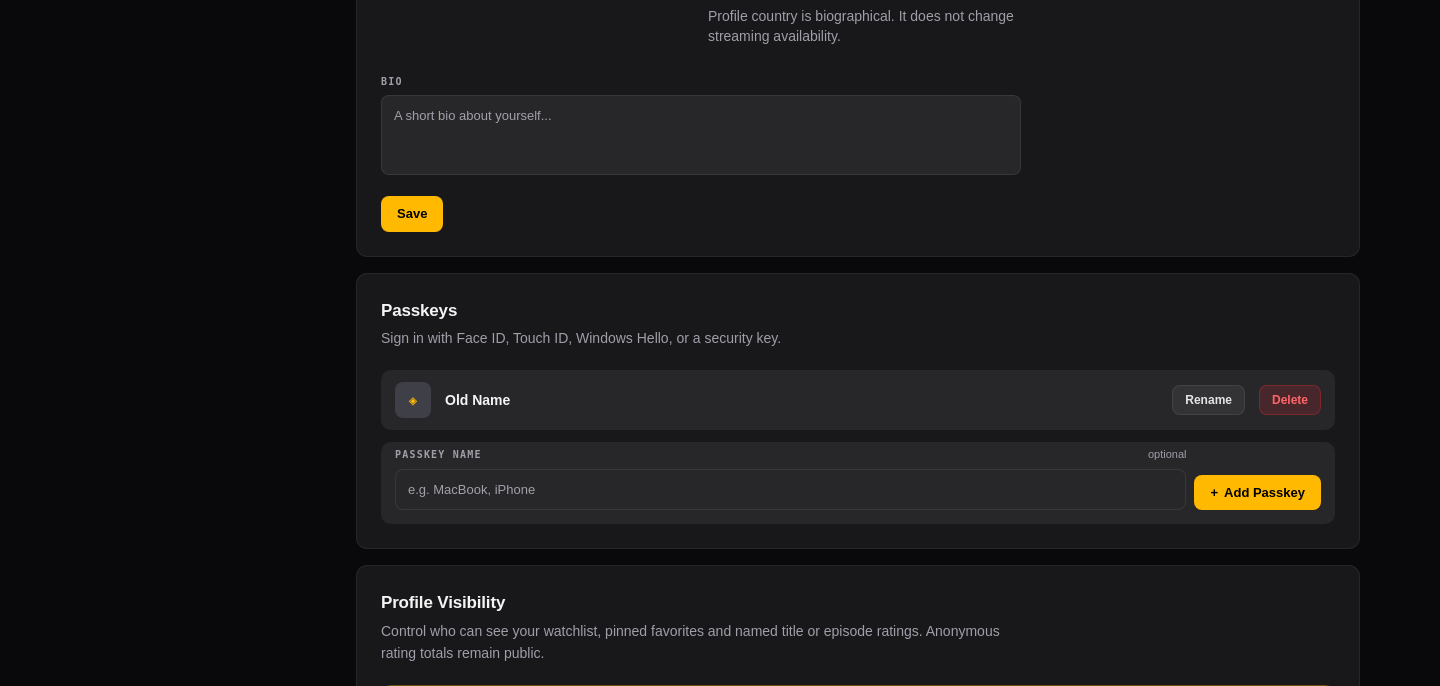
PasskeySection › rename error: shows error and keeps edit mode open for retry
(page scrolled)
Check: the text "Old Name" is shown, box [445,392,510,408]
Step 1. Click the button "Rename" → {"x": 1209, "y": 400}, box [1172,385,1245,415]
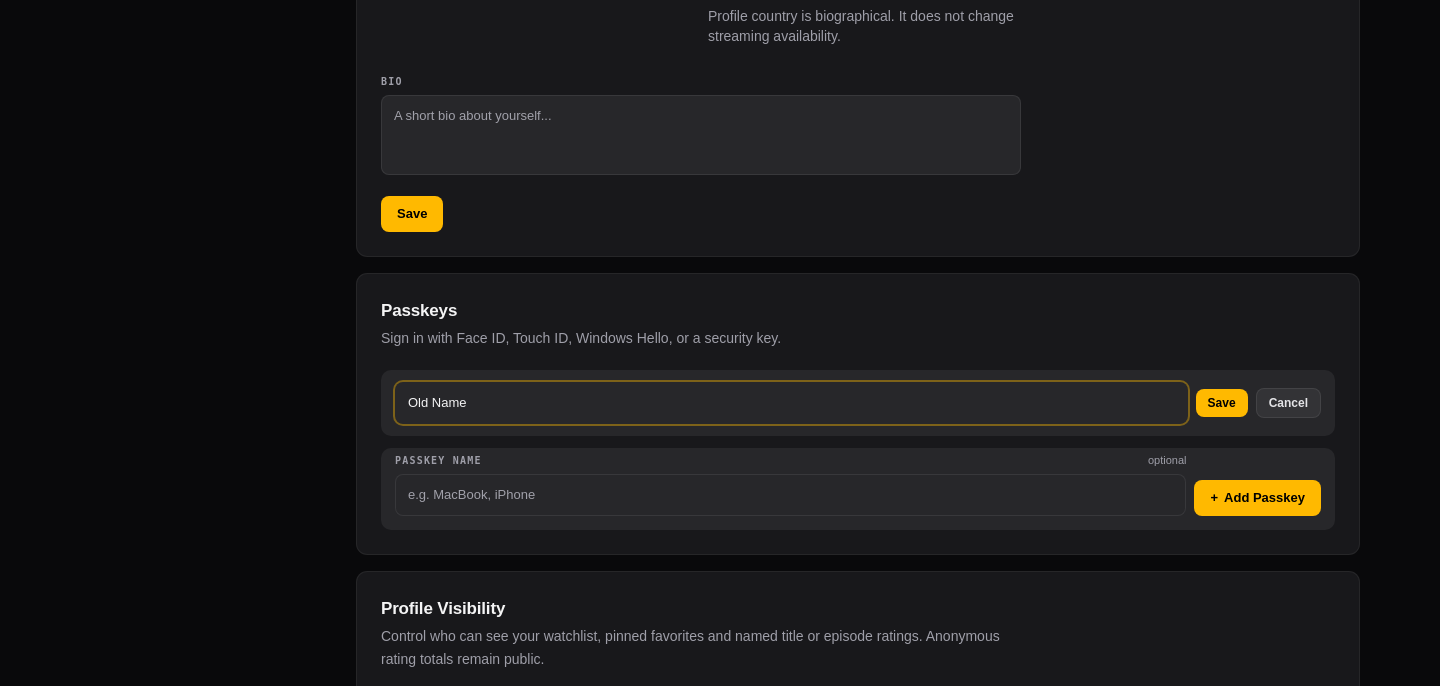
Step 2. Replace the text in the field named "Passkey name" with "New Name" → {"x": 791, "y": 403}, box [395,382,1188,424]
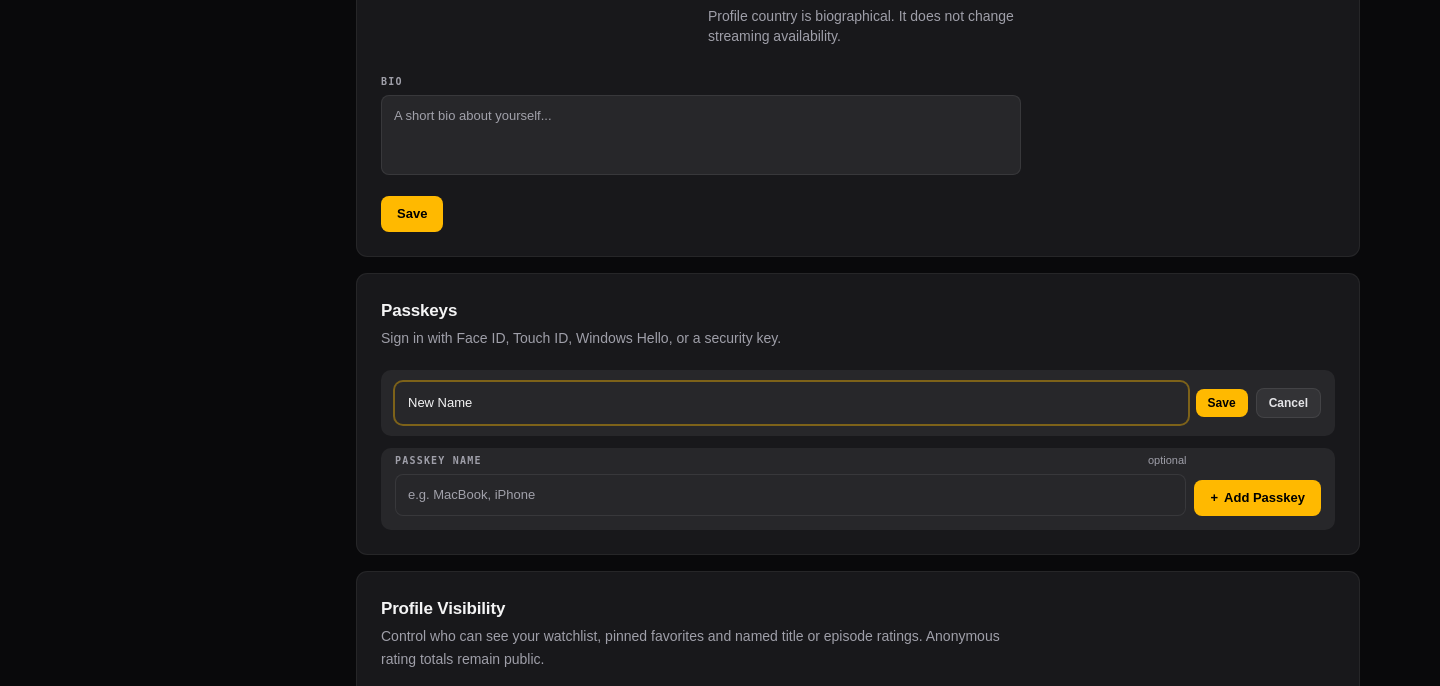
Step 3. Click the 2nd button "Save" → {"x": 1222, "y": 403}, box [1196,389,1248,417]
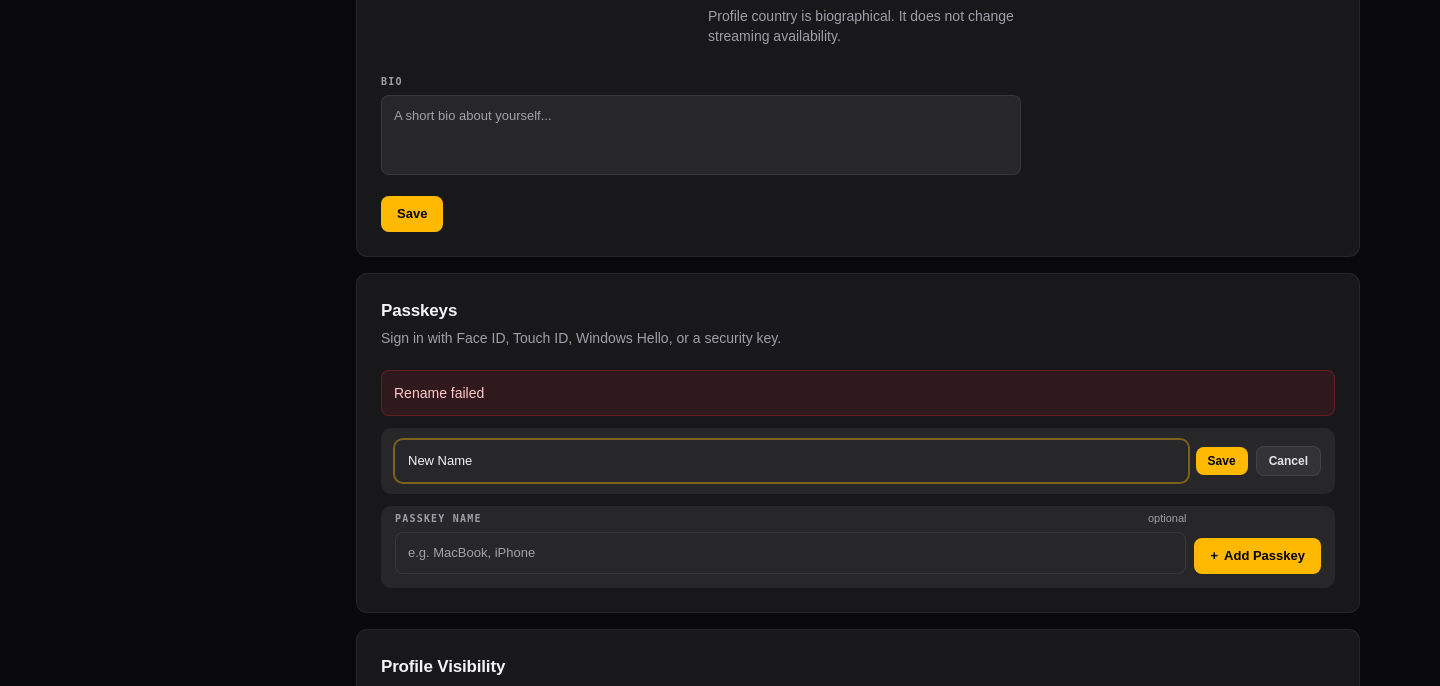
Check: the text "Rename failed" is shown, box [381,370,1335,416]
